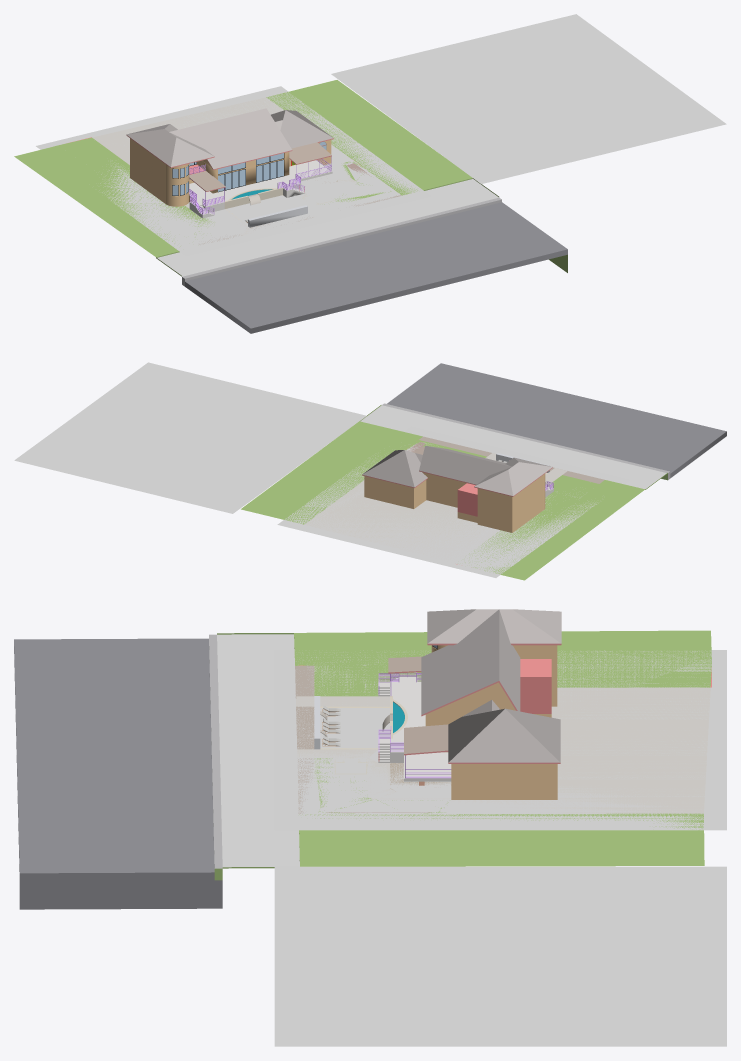
3 renders of one model, top to bottom at view 1: azimuth 30°, elevation 25°; view 2: azimuth 150°, elevation 25°; view 3: azimuth 270°, elevation 25°, orthographic. The views are drawn at different scales.
Visible parts, largest first — view 1: mesh_336_ROOT__Component_39696_Layer0, mesh_214_ROOT__Component_79503_Layer0_79_79_86_ss, mesh_335_ROOT__Component_39696_Layer0, mesh_211_ROOT__Component_79503_Layer0_106_157_55_ds, mesh_212_ROOT__Component_79503_Layer0_200_200_200_ss, mesh_20_ROOT__Component_31130_Layer0_136_127_125_ss, mesh_6_ROOT_Layer0_106_157_55_ss, mesh_11_ROOT__Component_28231_Layer0_255_178_101_ds, mesh_8_ROOT_Layer0_196_189_179_ss, mesh_215_ROOT__Component_79503_Layer0_144_143_146_ss, mesh_16_ROOT__Component_30695_Layer0_136_127_125_ss, mesh_25_ROOT__Component_31654_Layer0_136_127_125_ss (+6 smaller); view 2: mesh_336_ROOT__Component_39696_Layer0, mesh_214_ROOT__Component_79503_Layer0_79_79_86_ss, mesh_335_ROOT__Component_39696_Layer0, mesh_211_ROOT__Component_79503_Layer0_106_157_55_ds, mesh_8_ROOT_Layer0_196_189_179_ss, mesh_212_ROOT__Component_79503_Layer0_200_200_200_ss, mesh_11_ROOT__Component_28231_Layer0_255_178_101_ds, mesh_6_ROOT_Layer0_106_157_55_ss, mesh_20_ROOT__Component_31130_Layer0_136_127_125_ss, mesh_16_ROOT__Component_30695_Layer0_136_127_125_ss, mesh_25_ROOT__Component_31654_Layer0_136_127_125_ss, mesh_215_ROOT__Component_79503_Layer0_144_143_146_ss (+3 smaller); view 3: mesh_336_ROOT__Component_39696_Layer0, mesh_214_ROOT__Component_79503_Layer0_79_79_86_ss, mesh_335_ROOT__Component_39696_Layer0, mesh_211_ROOT__Component_79503_Layer0_106_157_55_ds, mesh_8_ROOT_Layer0_196_189_179_ss, mesh_212_ROOT__Component_79503_Layer0_200_200_200_ss, mesh_6_ROOT_Layer0_106_157_55_ss, mesh_20_ROOT__Component_31130_Layer0_136_127_125_ss, mesh_25_ROOT__Component_31654_Layer0_136_127_125_ss, mesh_11_ROOT__Component_28231_Layer0_255_178_101_ds, mesh_16_ROOT__Component_30695_Layer0_136_127_125_ss, mesh_215_ROOT__Component_79503_Layer0_144_143_146_ss (+6 smaller).
Part boxes in pixels (bbox=[...]): mesh_336_ROOT__Component_39696_Layer0: bbox=[331, 14, 726, 183]; mesh_214_ROOT__Component_79503_Layer0_79_79_86_ss: bbox=[185, 202, 567, 333]; mesh_335_ROOT__Component_39696_Layer0: bbox=[36, 86, 430, 256]; mesh_211_ROOT__Component_79503_Layer0_106_157_55_ds: bbox=[14, 80, 498, 276]; mesh_212_ROOT__Component_79503_Layer0_200_200_200_ss: bbox=[157, 179, 498, 276]; mesh_20_ROOT__Component_31130_Layer0_136_127_125_ss: bbox=[169, 108, 291, 169]; mesh_6_ROOT_Layer0_106_157_55_ss: bbox=[59, 137, 391, 237]; mesh_11_ROOT__Component_28231_Layer0_255_178_101_ds: bbox=[130, 138, 331, 206]; mesh_8_ROOT_Layer0_196_189_179_ss: bbox=[92, 97, 355, 235]; mesh_215_ROOT__Component_79503_Layer0_144_143_146_ss: bbox=[182, 197, 501, 286]; mesh_16_ROOT__Component_30695_Layer0_136_127_125_ss: bbox=[126, 124, 214, 166]; mesh_25_ROOT__Component_31654_Layer0_136_127_125_ss: bbox=[271, 110, 333, 148]; mesh_336_ROOT__Component_39696_Layer0: bbox=[14, 362, 366, 513]; mesh_214_ROOT__Component_79503_Layer0_79_79_86_ss: bbox=[387, 363, 726, 478]; mesh_335_ROOT__Component_39696_Layer0: bbox=[277, 426, 629, 577]; mesh_211_ROOT__Component_79503_Layer0_106_157_55_ds: bbox=[241, 405, 667, 580]; mesh_8_ROOT_Layer0_196_189_179_ss: bbox=[305, 453, 567, 561]; mesh_212_ROOT__Component_79503_Layer0_200_200_200_ss: bbox=[360, 405, 666, 489]; mesh_11_ROOT__Component_28231_Layer0_255_178_101_ds: bbox=[364, 474, 545, 532]; mesh_6_ROOT_Layer0_106_157_55_ss: bbox=[405, 440, 598, 570]; mesh_20_ROOT__Component_31130_Layer0_136_127_125_ss: bbox=[419, 445, 511, 484]; mesh_16_ROOT__Component_30695_Layer0_136_127_125_ss: bbox=[474, 457, 552, 495]; mesh_25_ROOT__Component_31654_Layer0_136_127_125_ss: bbox=[362, 450, 427, 487]; mesh_215_ROOT__Component_79503_Layer0_144_143_146_ss: bbox=[382, 403, 670, 479]; mesh_336_ROOT__Component_39696_Layer0: bbox=[274, 866, 726, 1046]; mesh_214_ROOT__Component_79503_Layer0_79_79_86_ss: bbox=[14, 638, 222, 909]; mesh_335_ROOT__Component_39696_Layer0: bbox=[274, 650, 726, 830]; mesh_211_ROOT__Component_79503_Layer0_106_157_55_ds: bbox=[214, 630, 711, 880]; mesh_8_ROOT_Layer0_196_189_179_ss: bbox=[296, 687, 710, 813]; mesh_212_ROOT__Component_79503_Layer0_200_200_200_ss: bbox=[217, 634, 299, 867]; mesh_6_ROOT_Layer0_106_157_55_ss: bbox=[314, 663, 711, 813]; mesh_20_ROOT__Component_31130_Layer0_136_127_125_ss: bbox=[421, 609, 520, 714]; mesh_25_ROOT__Component_31654_Layer0_136_127_125_ss: bbox=[448, 708, 560, 762]; mesh_11_ROOT__Component_28231_Layer0_255_178_101_ds: bbox=[431, 645, 557, 799]; mesh_16_ROOT__Component_30695_Layer0_136_127_125_ss: bbox=[427, 609, 561, 643]; mesh_215_ROOT__Component_79503_Layer0_144_143_146_ss: bbox=[209, 634, 222, 868].
Bounding box in the file's own units: 102949 × 14389 × 74523.
